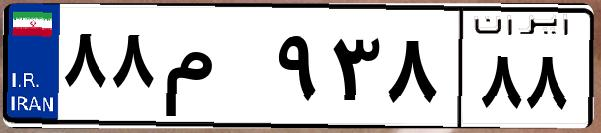3: (330, 28, 385, 110)
8: (385, 28, 445, 110), (57, 26, 110, 100), (475, 38, 525, 113), (525, 38, 570, 115), (110, 28, 158, 98)
9: (270, 28, 330, 110)
م: (158, 20, 270, 120)
